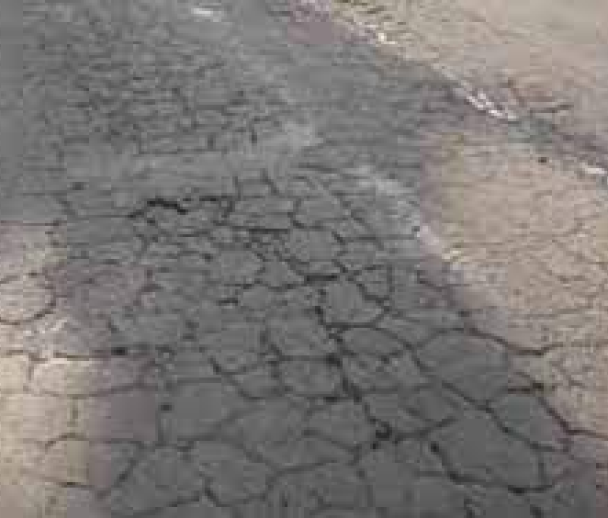Retak Buaya: (16, 9, 586, 513)
